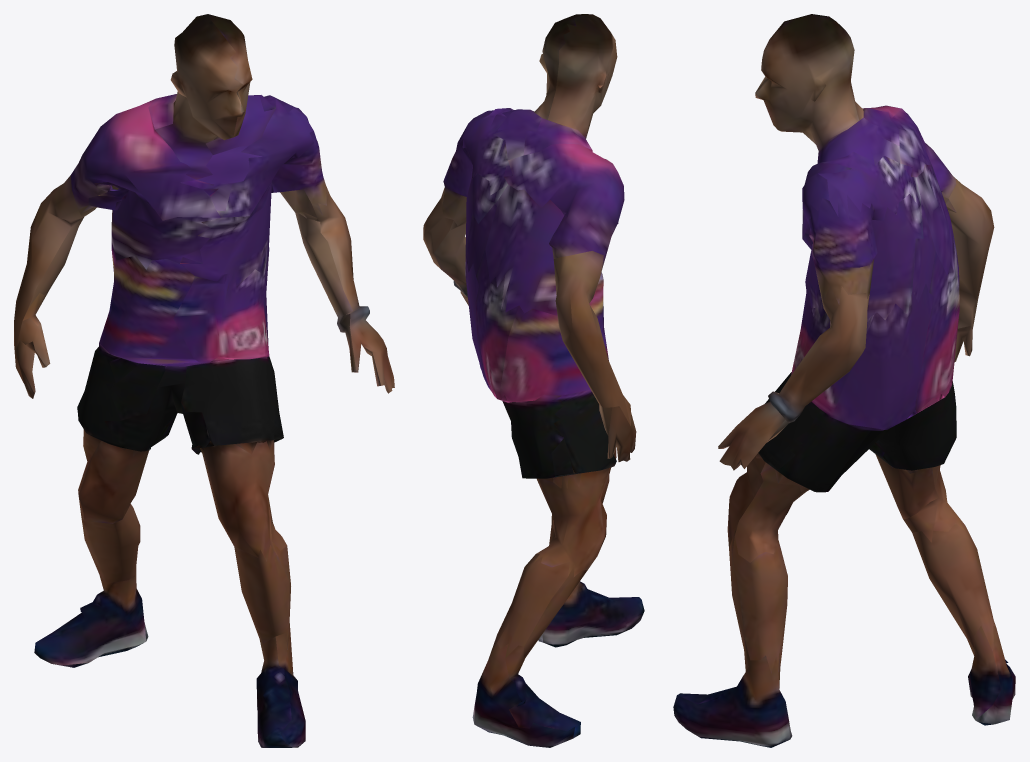
File: 10_1_idle_lod2.glb
The picture shows the model from 3 angles, left to right: view 1: azimuth 30°, elevation 25°; view 2: azimuth 150°, elevation 25°; view 3: azimuth 270°, elevation 25°; orthographic projection. The views are drawn at different scales.
Visible parts, largest first — view 1: Idle; view 2: Idle; view 3: Idle.
Boxes of the visible parts, x1=… form: Idle: x1=14, y1=14, x2=394, y2=747; Idle: x1=423, y1=14, x2=644, y2=747; Idle: x1=673, y1=14, x2=1015, y2=747.
Size of the model in its own units: 39.43 by 95.13 by 41.75.
1 material, 1 textured.
